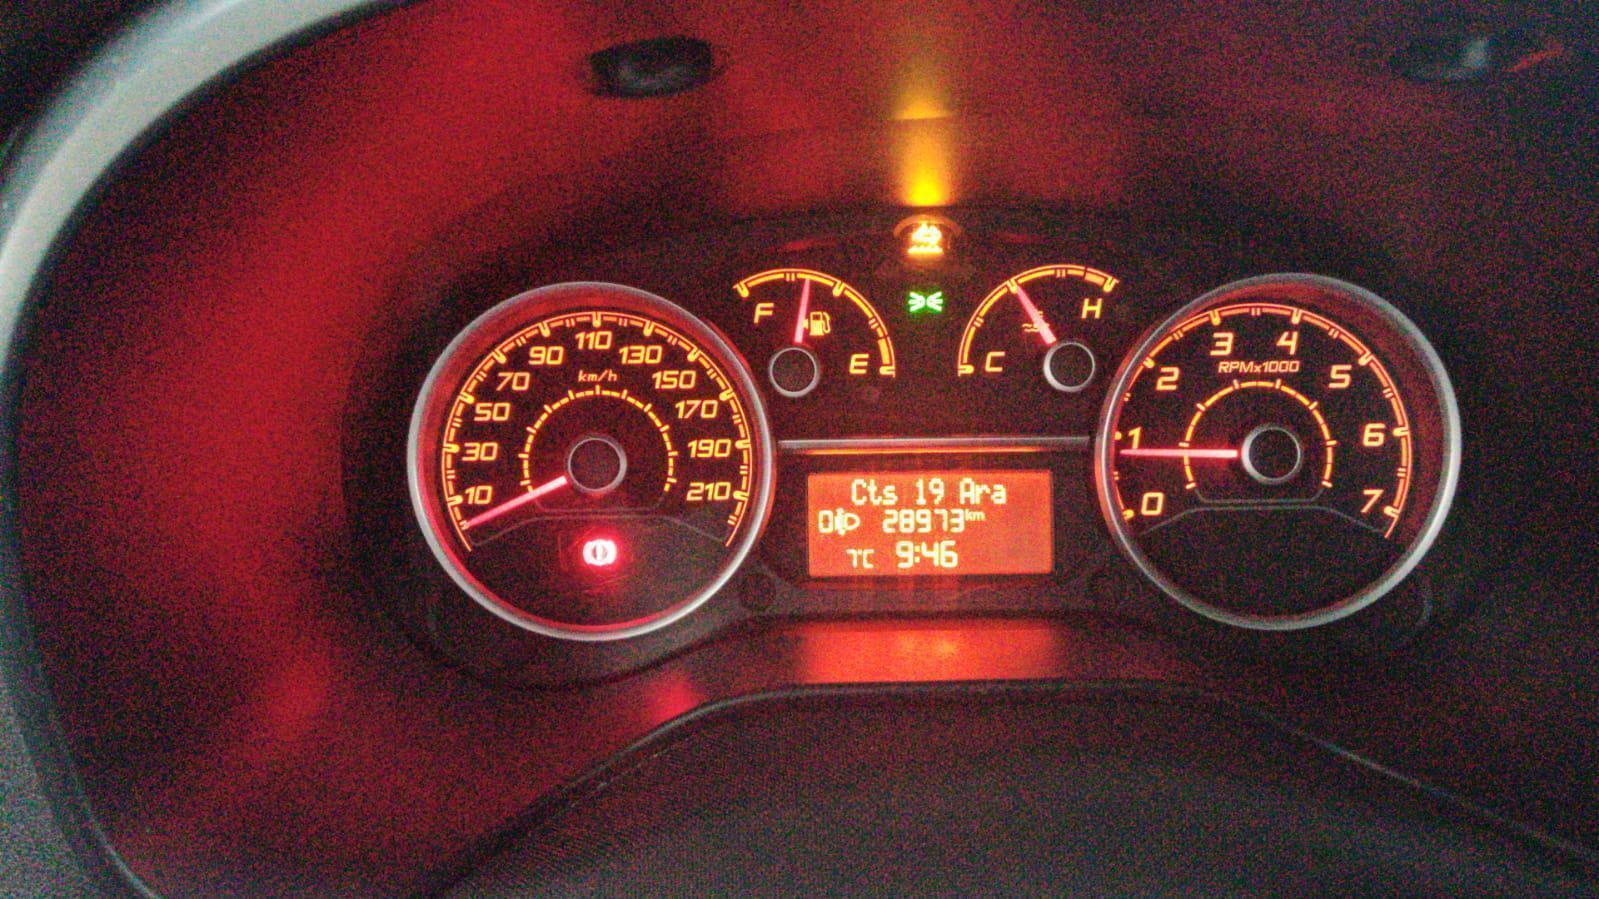0: (817, 508, 834, 533)
1: (914, 476, 926, 505)
2: (882, 508, 897, 532)
3: (949, 508, 964, 532)
4: (921, 541, 939, 568)
6: (940, 539, 958, 568)
7: (933, 507, 948, 531), (845, 547, 858, 568)
8: (899, 507, 915, 533)
9: (895, 540, 913, 570), (927, 476, 944, 505), (915, 507, 931, 533)
X: (959, 477, 975, 504), (851, 477, 866, 505), (866, 477, 882, 504), (882, 484, 898, 506), (991, 483, 1006, 504), (975, 483, 991, 503), (863, 547, 874, 568), (913, 544, 920, 564), (972, 510, 984, 521), (964, 508, 972, 521)
odometer: (802, 467, 1056, 582)
